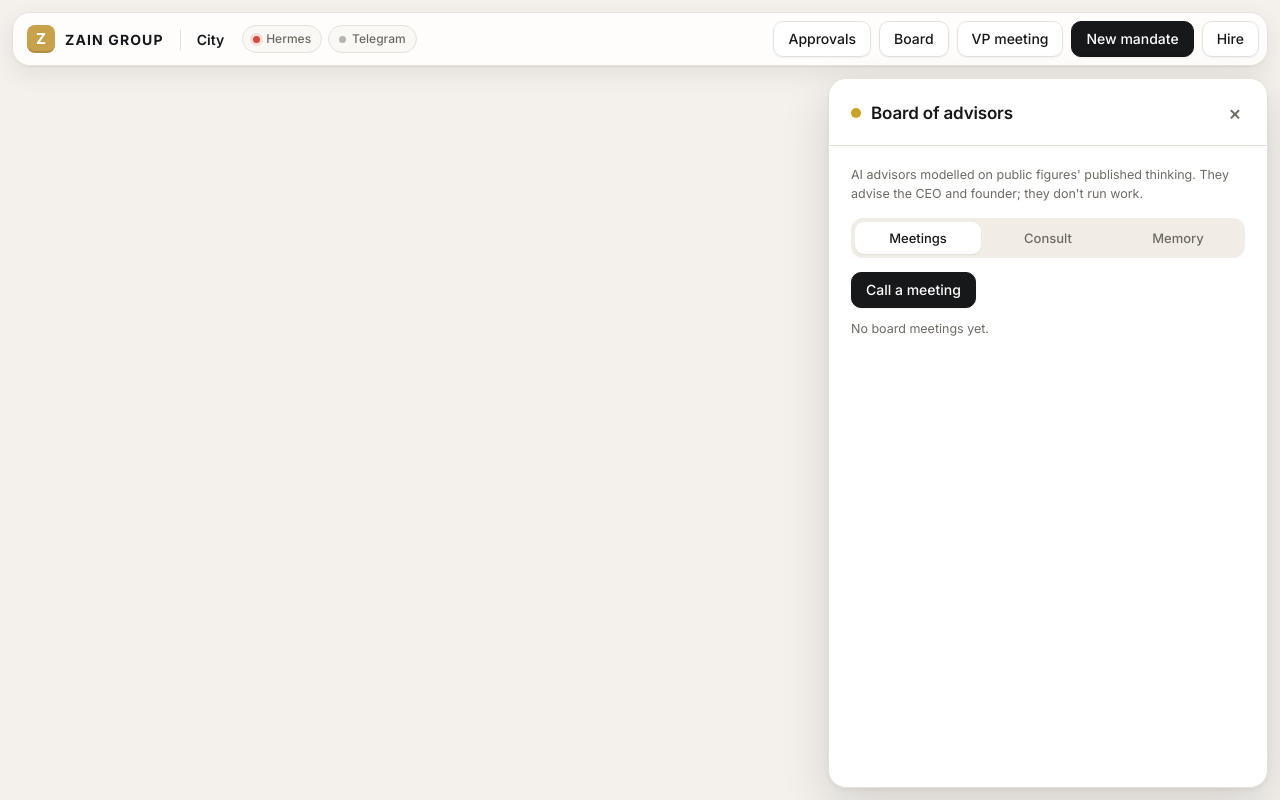
it: Call a meeting › Esc closes only the modal when a panel is open beneath it
Click the button "Call a meeting" at (914, 290), box left=851, top=272, right=976, bottom=308
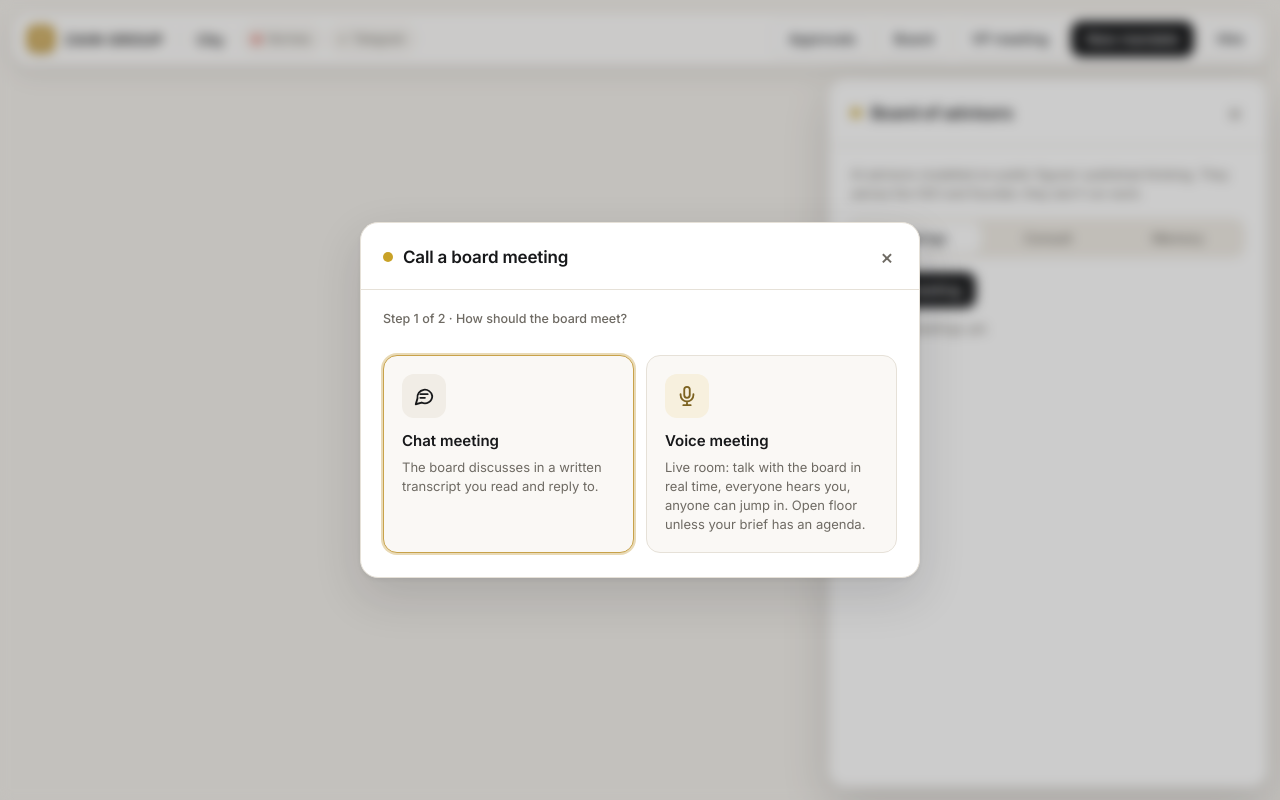
Expected: the dialog is shown, left=360, top=222, right=920, bottom=578
Press Escape
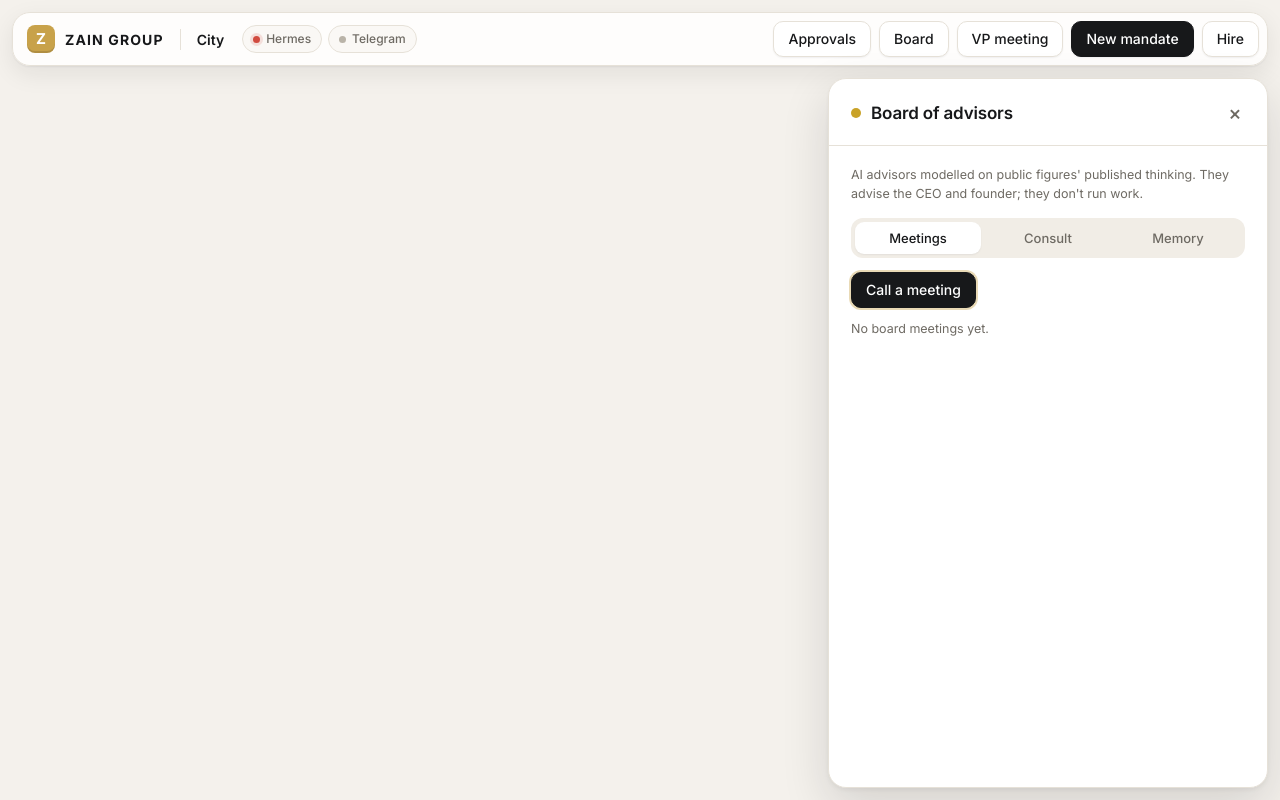
Expected: the dialog is gone
